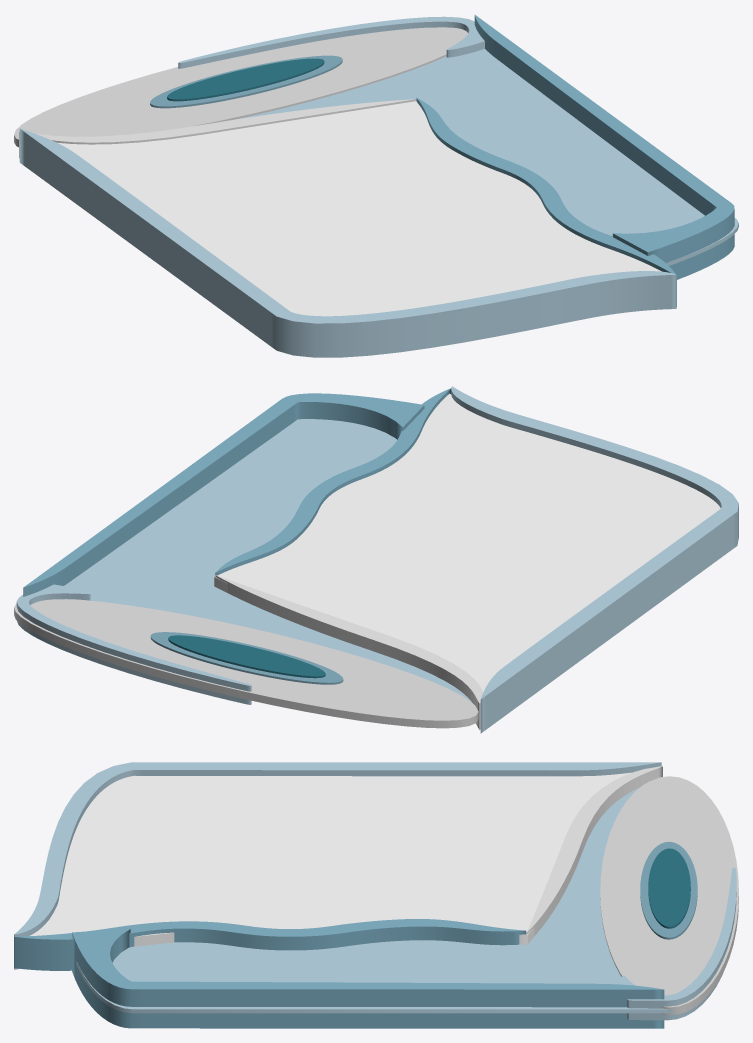
The model's file is emoji_u1f9fb.glb.
3 views of the same model, one above another, from view 1: azimuth 30°, elevation 25°; view 2: azimuth 150°, elevation 25°; view 3: azimuth 270°, elevation 25° (orthographic). The views are drawn at different scales.
Parts seen in each view (by area): view 1: emoji_u1f9fb; view 2: emoji_u1f9fb; view 3: emoji_u1f9fb.
Part boxes in pixels (x1=…): emoji_u1f9fb: x1=14, y1=15, x2=738, y2=357; emoji_u1f9fb: x1=14, y1=386, x2=738, y2=733; emoji_u1f9fb: x1=14, y1=762, x2=738, y2=1028.
Size of the model in its own units: 0.0254 by 0.002 by 0.0336.
